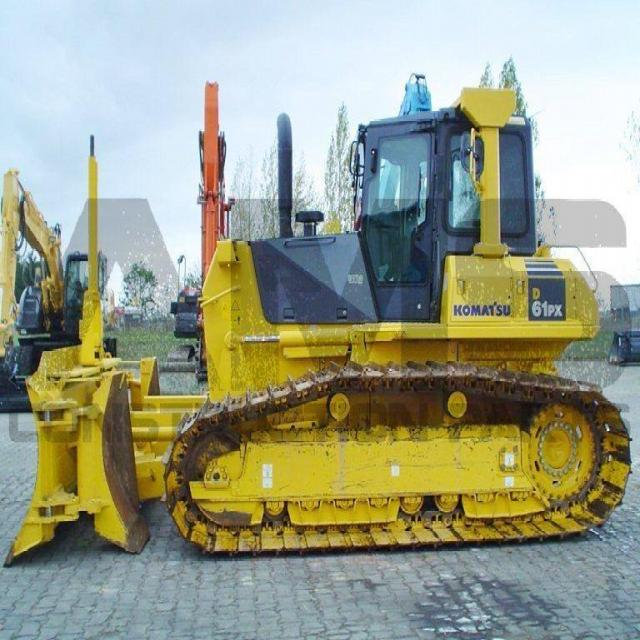Bulldozer: (33, 88, 632, 564)
